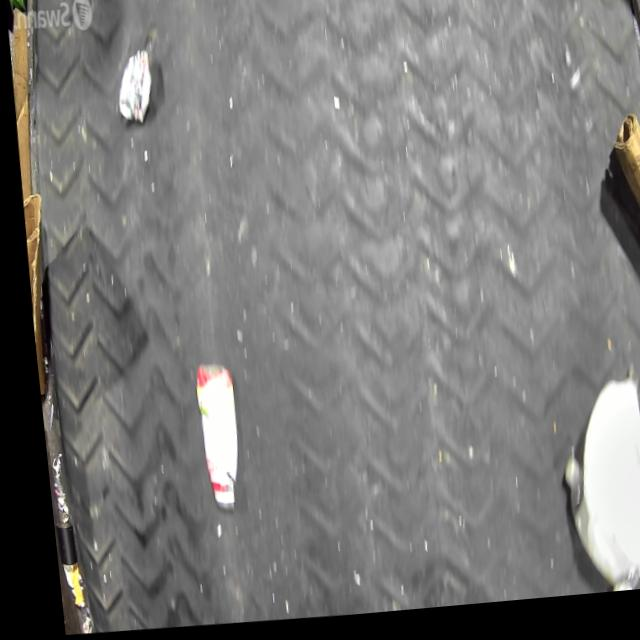milk_jug: (559, 381, 640, 590), (111, 49, 155, 129)
